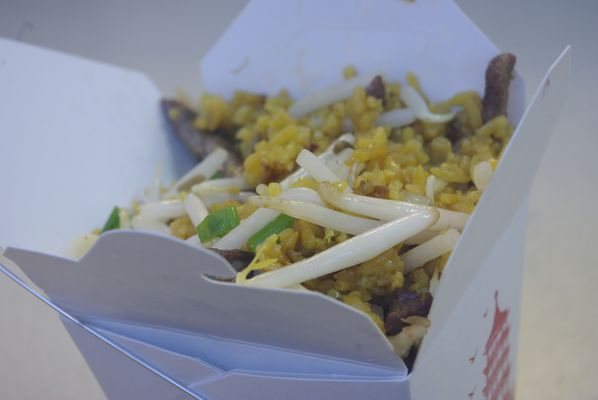salad: (5, 227, 408, 386)
